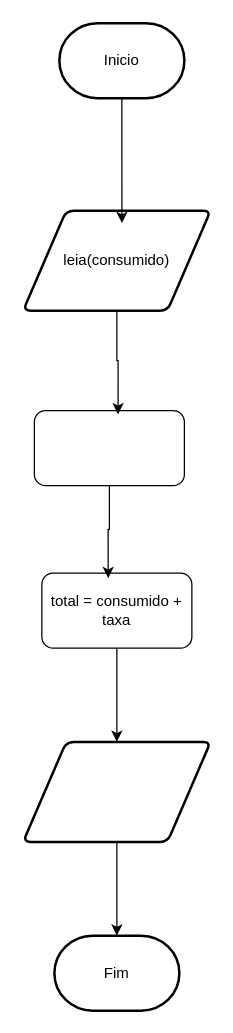
The diagram is 233 pixels wide and 1033 high, and some of its shapes have lost their labels. The shapes that lost their labels are listed below. From the top down, each one's box as (x1, y1, x2, y2) in pixels, then its label:
(33, 409, 184, 486): taxa = consumido * (10/100)
(21, 740, 211, 842): Escreva("O total é de: R$", total "\n"
